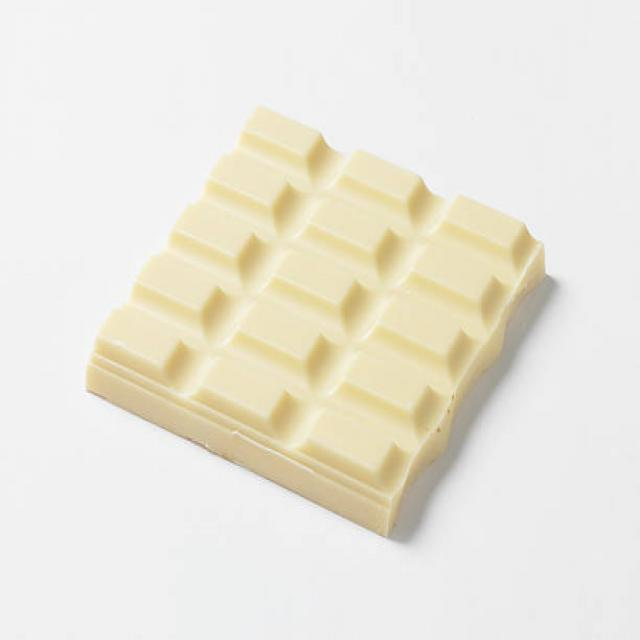Chocolate: (85, 98, 545, 545)
